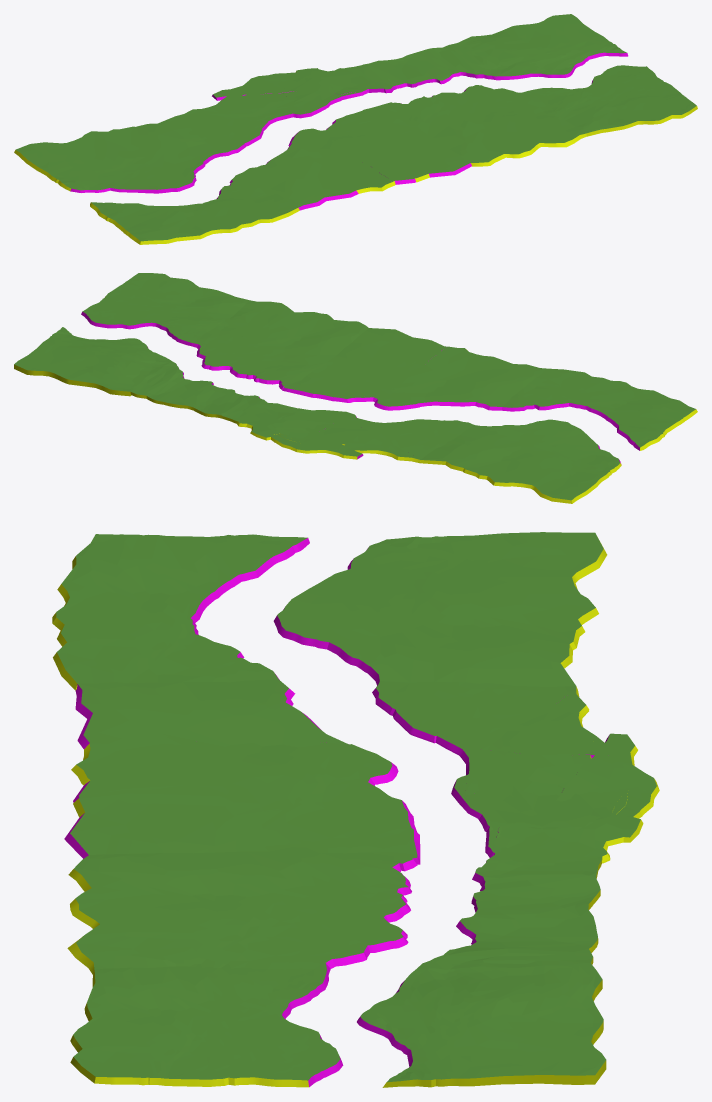
File: grass_path_set_B_curved.fbx
3 views of the same model, one above another, from view 1: azimuth 30°, elevation 25°; view 2: azimuth 150°, elevation 25°; view 3: azimuth 270°, elevation 25° (orthographic). The views are drawn at different scales.
Parts seen in each view (by area): view 1: path_curved_grass_layer_D_R, path_curved_grass_layer_B_L, path_curved_grass_layer_C_L, path_curved_grass_layer_D_L, path_curved_grass_layer_A_L, path_curved_grass_layer_A_R, path_curved_grass_layer_C_L_road_A, path_curved_grass_layer_C_R, path_curved_grass_layer_B_R, path_curved_grass_layer_C_R_road_A, path_curved_grass_layer_C_R_road_B; view 2: path_curved_grass_layer_D_R, path_curved_grass_layer_B_L, path_curved_grass_layer_C_L, path_curved_grass_layer_D_L, path_curved_grass_layer_A_L, path_curved_grass_layer_A_R, path_curved_grass_layer_C_L_road_A, path_curved_grass_layer_C_R, path_curved_grass_layer_B_R, path_curved_grass_layer_C_R_road_B, path_curved_grass_layer_C_R_road_A; view 3: path_curved_grass_layer_D_R, path_curved_grass_layer_B_L, path_curved_grass_layer_C_L, path_curved_grass_layer_A_L, path_curved_grass_layer_D_L, path_curved_grass_layer_A_R, path_curved_grass_layer_C_L_road_A, path_curved_grass_layer_C_R, path_curved_grass_layer_B_R, path_curved_grass_layer_C_R_road_B, path_curved_grass_layer_C_R_road_A.
Boxes of the visible parts, box(x1,y1,x2,y2) form: path_curved_grass_layer_D_R: box(14, 116, 220, 193); path_curved_grass_layer_B_L: box(387, 85, 586, 166); path_curved_grass_layer_C_L: box(259, 105, 452, 193); path_curved_grass_layer_D_L: box(90, 172, 299, 244); path_curved_grass_layer_A_L: box(528, 65, 697, 136); path_curved_grass_layer_A_R: box(458, 14, 628, 79); path_curved_grass_layer_C_L_road_A: box(243, 103, 471, 210); path_curved_grass_layer_C_R: box(175, 68, 376, 156); path_curved_grass_layer_B_R: box(344, 43, 503, 93); path_curved_grass_layer_C_R_road_A: box(203, 76, 368, 156); path_curved_grass_layer_C_R_road_B: box(179, 68, 377, 156); path_curved_grass_layer_D_R: box(420, 419, 621, 503); path_curved_grass_layer_B_L: box(191, 300, 368, 391); path_curved_grass_layer_C_L: box(286, 330, 522, 410); path_curved_grass_layer_D_L: box(502, 368, 697, 450); path_curved_grass_layer_A_L: box(81, 273, 249, 346); path_curved_grass_layer_A_R: box(14, 327, 171, 396); path_curved_grass_layer_C_L_road_A: box(288, 328, 546, 410); path_curved_grass_layer_C_R: box(237, 400, 474, 463); path_curved_grass_layer_B_R: box(130, 361, 263, 423); path_curved_grass_layer_C_R_road_B: box(243, 403, 434, 459); path_curved_grass_layer_C_R_road_A: box(237, 407, 442, 462); path_curved_grass_layer_D_R: box(273, 532, 607, 686); path_curved_grass_layer_B_L: box(67, 851, 420, 974); path_curved_grass_layer_C_L: box(70, 682, 420, 859); path_curved_grass_layer_A_L: box(70, 966, 343, 1087); path_curved_grass_layer_D_L: box(52, 534, 309, 690); path_curved_grass_layer_A_R: box(357, 963, 606, 1087); path_curved_grass_layer_C_L_road_A: box(64, 679, 420, 858); path_curved_grass_layer_C_R: box(373, 681, 622, 863); path_curved_grass_layer_B_R: box(417, 856, 602, 969); path_curved_grass_layer_C_R_road_B: box(394, 686, 659, 852); path_curved_grass_layer_C_R_road_A: box(372, 682, 628, 861).
Bounding box in the file's own units: 10440 × 100 × 4875.
